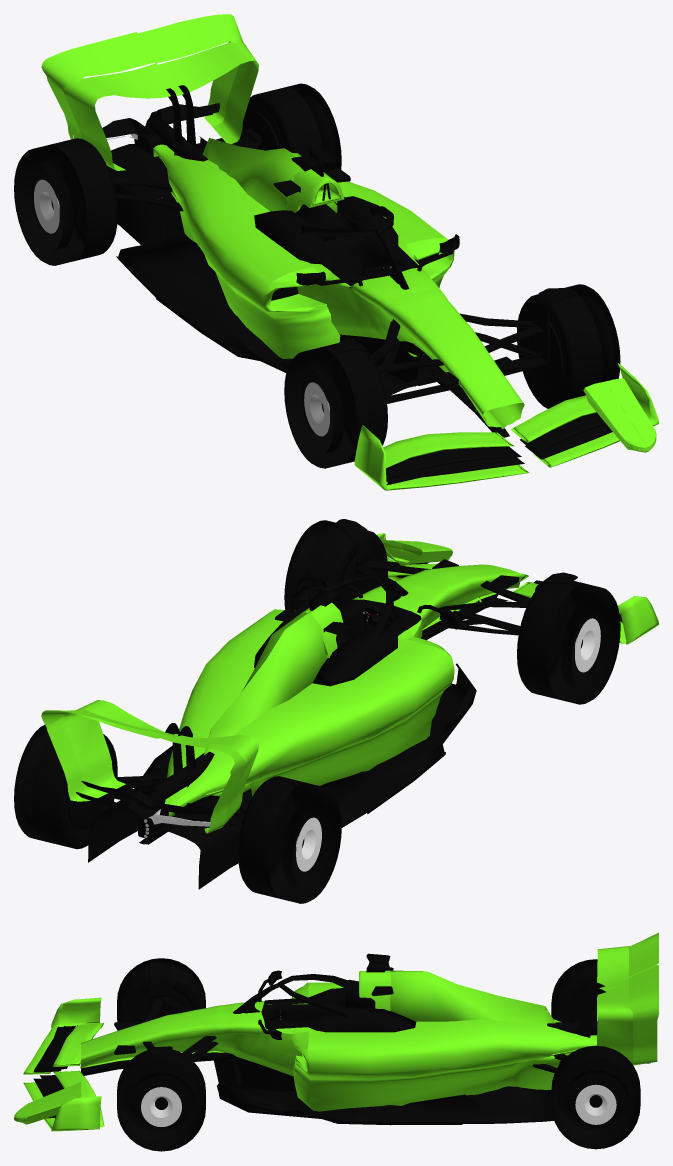
3 views of the same model, one above another, from view 1: azimuth 30°, elevation 25°; view 2: azimuth 150°, elevation 25°; view 3: azimuth 270°, elevation 25° (orthographic). The views are drawn at different scales.
Visible parts, largest first — view 1: Plane.053, Plane.030, Plane.004, Cylinder.019, Cylinder.018, Plane.016, Cylinder.007, Plane.031, Cylinder.004, Plane.022, Plane, Plane.045 (+19 smaller); view 2: Plane.030, Cylinder.019, Cylinder.018, Plane.053, Plane.031, Plane.016, Cylinder.004, Plane, Plane.004, Plane.022, Cylinder.007, Plane.020 (+11 smaller); view 3: Plane, Plane.004, Plane.016, Cylinder.004, Cylinder.007, Plane.053, Plane.031, Cylinder.018, Plane.002, Cylinder.019, Plane.005, Plane.035 (+17 smaller).
Part boxes in pixels (bbox=[...]): Plane.053: bbox=[41, 14, 258, 170]; Plane.030: bbox=[153, 144, 352, 358]; Plane.004: bbox=[297, 258, 524, 437]; Cylinder.019: bbox=[14, 138, 117, 265]; Cylinder.018: bbox=[284, 343, 387, 468]; Plane.016: bbox=[116, 234, 433, 391]; Cylinder.007: bbox=[517, 284, 620, 408]; Plane.031: bbox=[202, 138, 344, 212]; Cylinder.004: bbox=[240, 83, 341, 171]; Plane.022: bbox=[107, 136, 206, 244]; Plane: bbox=[158, 144, 454, 287]; Plane.045: bbox=[583, 378, 656, 452]; Plane.030: bbox=[165, 619, 454, 816]; Cylinder.019: bbox=[238, 776, 341, 903]; Cylinder.018: bbox=[517, 581, 620, 704]; Plane.053: bbox=[41, 700, 258, 833]; Plane.031: bbox=[204, 602, 343, 754]; Plane.016: bbox=[134, 663, 476, 827]; Cylinder.004: bbox=[14, 724, 117, 849]; Plane: bbox=[158, 609, 295, 804]; Plane.004: bbox=[352, 564, 523, 639]; Plane.022: bbox=[88, 782, 242, 889]; Cylinder.007: bbox=[284, 520, 387, 610]; Plane.020: bbox=[313, 605, 421, 686]; Plane: bbox=[266, 1019, 596, 1111]; Plane.004: bbox=[80, 1001, 307, 1079]; Plane.016: bbox=[217, 1081, 554, 1125]; Cylinder.004: bbox=[551, 1045, 640, 1149]; Cylinder.007: bbox=[117, 1049, 205, 1151]; Plane.053: bbox=[597, 932, 658, 1065]; Plane.031: bbox=[359, 970, 555, 1024]; Cylinder.018: bbox=[117, 958, 205, 1022]; Plane.002: bbox=[261, 1007, 416, 1032]; Cylinder.019: bbox=[551, 959, 597, 1022]; Plane.005: bbox=[23, 1082, 101, 1131]; Plane.035: bbox=[23, 997, 101, 1074].
Size of the model in its own units: 1.78 by 1.08 by 4.45.
